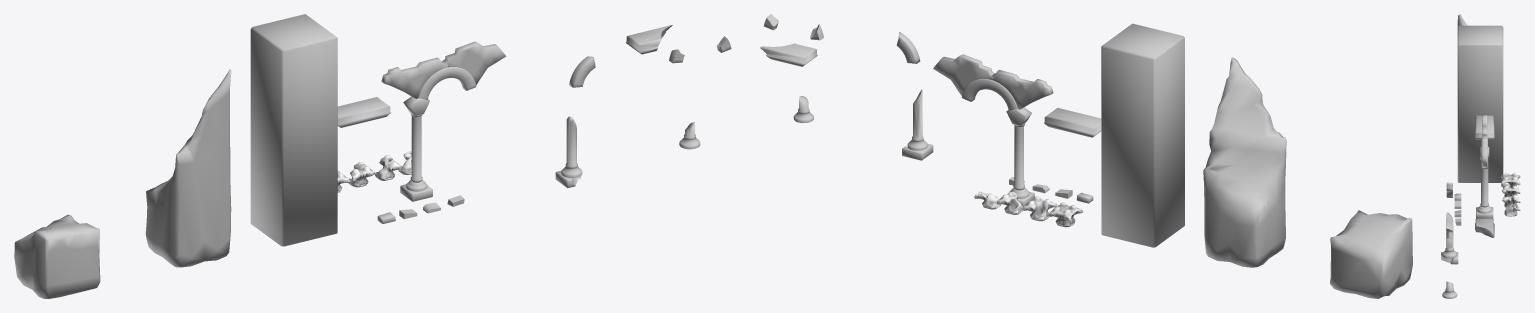
The model's file is Ruins_BuildingParts.FBX.
The picture shows the model from 3 angles, left to right: view 1: azimuth 30°, elevation 25°; view 2: azimuth 150°, elevation 25°; view 3: azimuth 270°, elevation 25°; orthographic projection. The views are drawn at different scales.
Visible parts, largest first — view 1: RuinsBigBlock, RuinsBigBlock001, RuinsBigBlock002, RuinsUpperArc001, RuinsUpperArc00, Ruins_Cornice00, Ruins_Column00, RuinsArc00, Ruins_Column01, Ruins_Cornice01, RuinsArc01; view 2: RuinsBigBlock, RuinsBigBlock001, RuinsBigBlock002, RuinsUpperArc001, RuinsUpperArc00, Ruins_Cornice00, Ruins_Cornice01, Ruins_Column00, RuinsArc00, Ruins_Column01, RuinsCapital00, RuinsCapital01 (+1 smaller); view 3: RuinsBigBlock, Ruins_Column00, Ruins_Cornice00, Ruins_Cornice01, Ruins_Column01, RuinsCapital00, RuinsUpperArc001, RuinsCapital01, Ruins_Column02, RuinsCapital02, RuinsCapital03, Base (+7 smaller).
Part boxes in pixels (<box>): RuinsBigBlock: <box>250,14,337,246</box>; RuinsBigBlock001: <box>145,69,231,267</box>; RuinsBigBlock002: <box>14,214,100,298</box>; RuinsUpperArc001: <box>442,41,506,84</box>; RuinsUpperArc00: <box>381,57,447,98</box>; Ruins_Cornice00: <box>337,97,390,127</box>; Ruins_Column00: <box>406,113,427,191</box>; RuinsArc00: <box>418,67,476,99</box>; Ruins_Column01: <box>561,116,582,177</box>; Ruins_Cornice01: <box>626,25,672,54</box>; RuinsArc01: <box>569,56,595,87</box>; RuinsBigBlock: <box>1101,23,1184,247</box>; RuinsBigBlock001: <box>1203,57,1286,267</box>; RuinsBigBlock002: <box>1330,210,1412,298</box>; RuinsUpperArc001: <box>933,54,994,95</box>; RuinsUpperArc00: <box>989,69,1053,109</box>; Ruins_Cornice00: <box>1044,108,1101,137</box>; Ruins_Cornice01: <box>760,43,817,66</box>; Ruins_Column00: <box>1009,123,1029,198</box>; RuinsArc00: <box>961,78,1017,110</box>; Ruins_Column01: <box>907,89,927,150</box>; RuinsCapital00: <box>1048,202,1083,227</box>; RuinsCapital01: <box>1022,196,1057,221</box>; RuinsBigBlock: <box>1457,25,1503,182</box>; Ruins_Column00: <box>1477,160,1491,213</box>; Ruins_Cornice00: <box>1475,115,1494,139</box>; Ruins_Cornice01: <box>1475,218,1494,237</box>; Ruins_Column01: <box>1442,212,1457,258</box>; RuinsCapital00: <box>1501,173,1520,187</box>; RuinsUpperArc001: <box>1482,134,1487,168</box>; RuinsCapital01: <box>1501,182,1520,197</box>; Ruins_Column02: <box>1442,281,1457,298</box>; RuinsCapital02: <box>1502,195,1520,207</box>; RuinsCapital03: <box>1504,205,1520,216</box>; Base: <box>1476,207,1493,218</box>.
Bounding box in the file's own units: 608 × 168 × 87.9.
